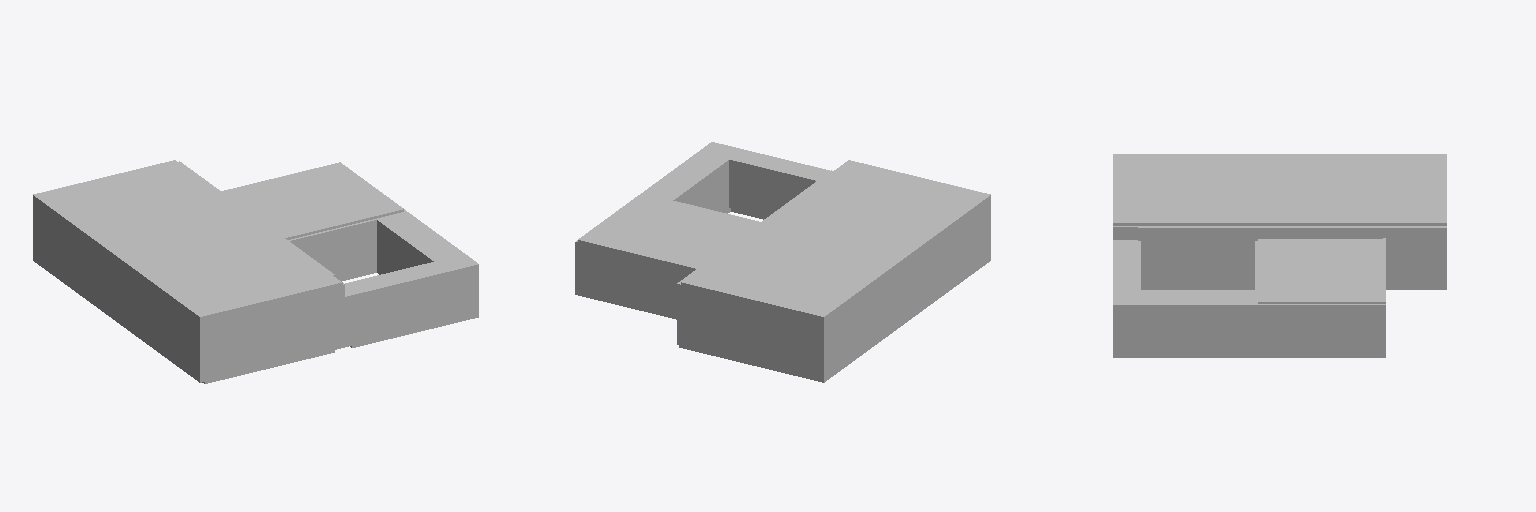
File: SALON.obj
The picture shows the model from 3 angles: view 1: azimuth 30°, elevation 25°; view 2: azimuth 150°, elevation 25°; view 3: azimuth 270°, elevation 25°; orthographic projection.
Visible parts, largest first — view 1: SALON; view 2: SALON; view 3: SALON.
Part boxes in pixels (left/top/right/bottom): SALON: left=33, top=160, right=478, bottom=383; SALON: left=575, top=142, right=990, bottom=382; SALON: left=1113, top=154, right=1446, bottom=357.
Bounding box in the file's own units: 11.57 × 2.7 × 12.